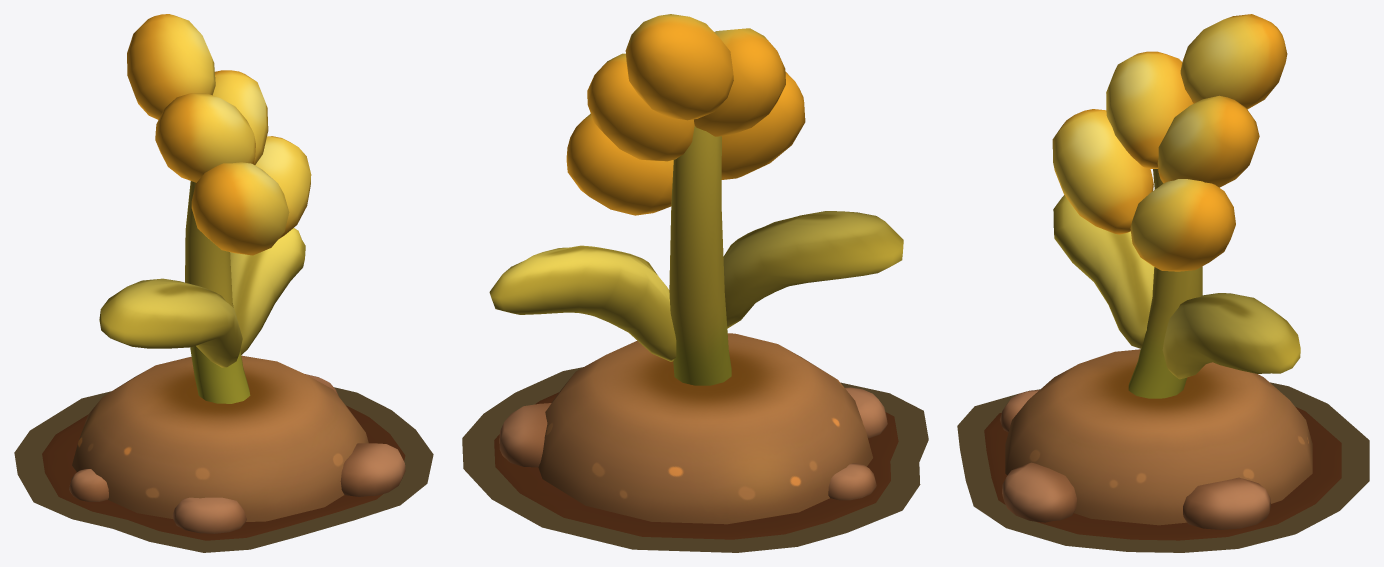
Rendered from Wheat_L02.fbx.
3 renders of one model, left to right at view 1: azimuth 30°, elevation 25°; view 2: azimuth 150°, elevation 25°; view 3: azimuth 270°, elevation 25°, orthographic. The views are drawn at different scales.
Visible parts, largest first — view 1: Wheat02_body, Wheat02SDW; view 2: Wheat02_body, Wheat02SDW; view 3: Wheat02_body, Wheat02SDW.
Part boxes in pixels (<box>): Wheat02_body: <box>42,14,405,540</box>; Wheat02SDW: <box>14,387,433,552</box>; Wheat02_body: <box>489,14,903,539</box>; Wheat02SDW: <box>462,367,928,552</box>; Wheat02_body: <box>984,14,1341,540</box>; Wheat02SDW: <box>957,382,1369,552</box>.
Bounding box in the file's own units: 111 × 122 × 104.
Materials: 2 (1 with a texture image).
